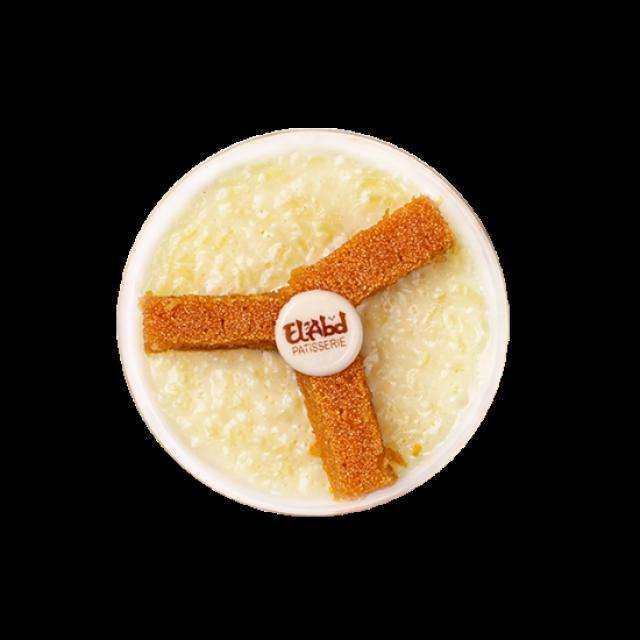roz blabn: (118, 137, 506, 513)
